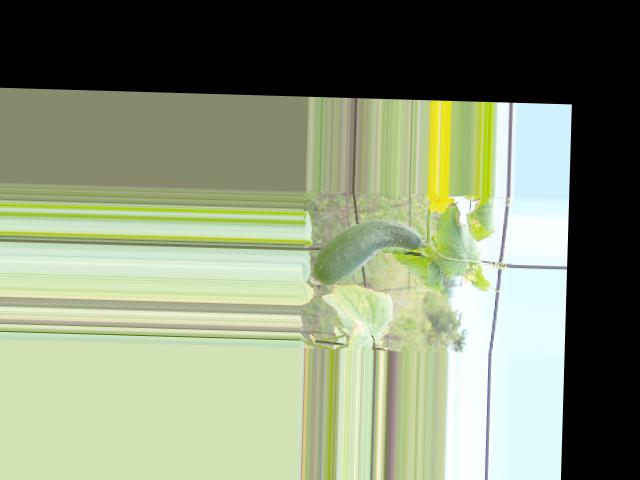cucumber: (312, 218, 424, 288)
